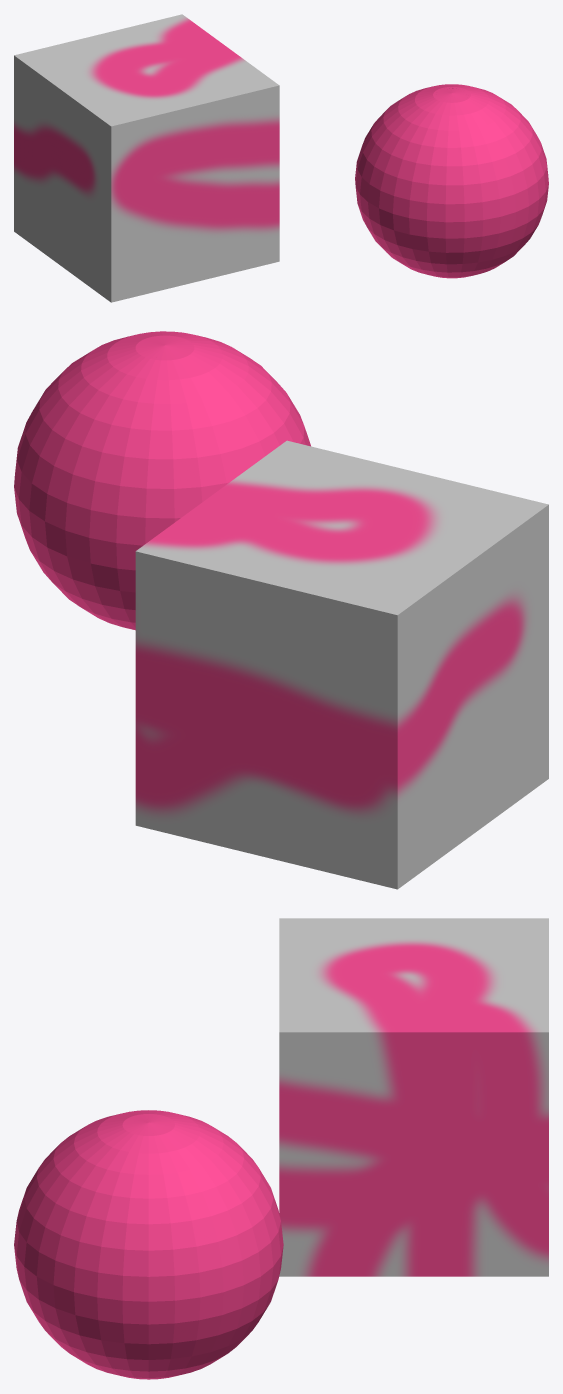
3 views of the same model, one above another, from view 1: azimuth 30°, elevation 25°; view 2: azimuth 150°, elevation 25°; view 3: azimuth 270°, elevation 25° (orthographic). The views are drawn at different scales.
Parts seen in each view (by area): view 1: Cube, 球体; view 2: Cube, 球体; view 3: Cube, 球体.
Boxes of the visible parts, <box> form: Cube: <box>14,14,279,302</box>; 球体: <box>355,84,548,278</box>; Cube: <box>135,440,548,889</box>; 球体: <box>14,331,310,630</box>; Cube: <box>279,918,548,1276</box>; 球体: <box>14,1110,283,1379</box>.
Size of what is drawn, in the model's own units: 4.49 by 2.04 by 3.97.
Materials: 2 (2 with a texture image).
